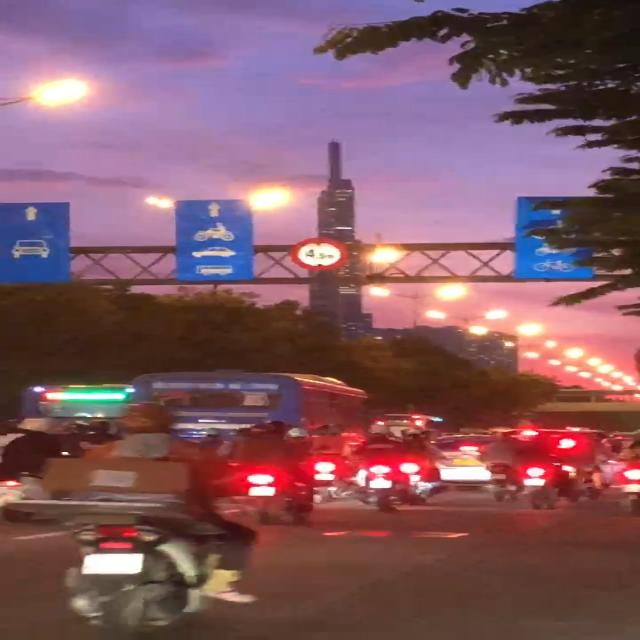Bien bao han che chieu cao: (290, 236, 348, 271)
